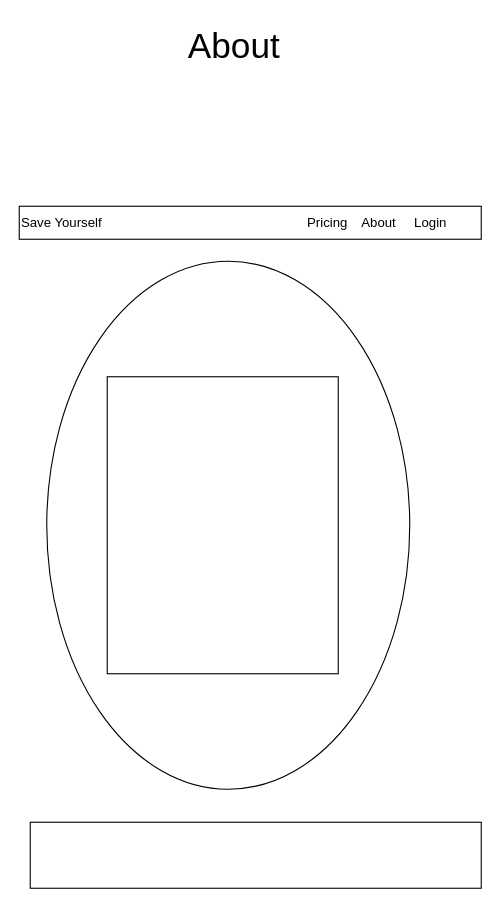
Image size: 501x908. Some labels were removed from this diagram. The centre of each missing label's shape, as x and y in pixels:
"Footer" goes at [255,854].
"Mission statement/ history etc" goes at [222,525].
